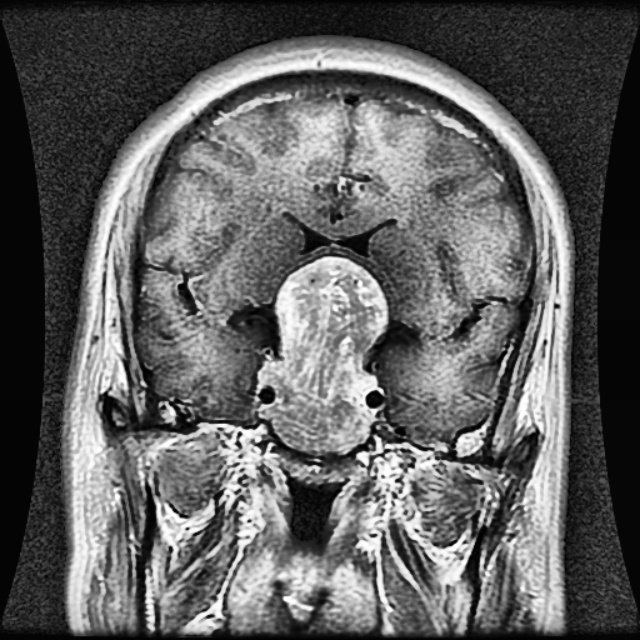Pituitary: (263, 255, 387, 454)
